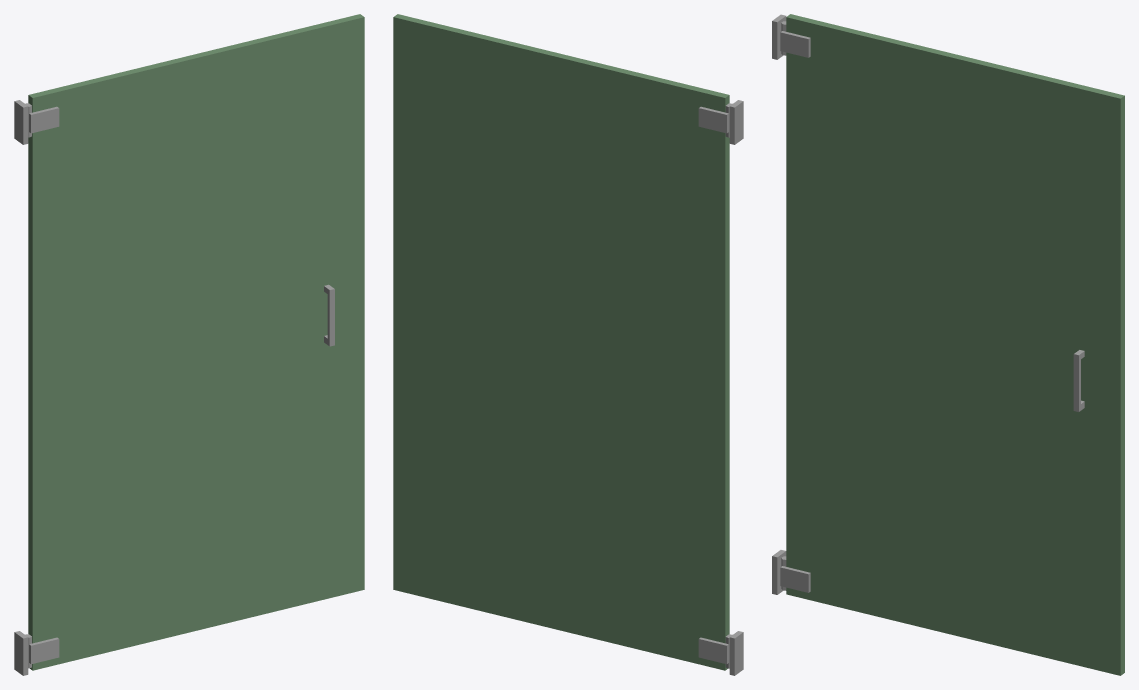
The model's file is StallDoor.fbx.
3 views of the same model, side by side, from view 1: azimuth 30°, elevation 25°; view 2: azimuth 150°, elevation 25°; view 3: azimuth 330°, elevation 25° (orthographic).
Parts seen in each view (by area): view 1: polySurface13, DoorHinges; view 2: polySurface13, DoorHinges; view 3: polySurface13, DoorHinges.
Part boxes in pixels (bbox=[...]): polySurface13: bbox=[25, 14, 364, 670]; DoorHinges: bbox=[14, 100, 28, 675]; polySurface13: bbox=[393, 14, 732, 670]; DoorHinges: bbox=[729, 100, 743, 675]; polySurface13: bbox=[780, 14, 1124, 675]; DoorHinges: bbox=[772, 14, 786, 594].
Bounding box in the file's own units: 5.37 × 8.56 × 0.3344.
